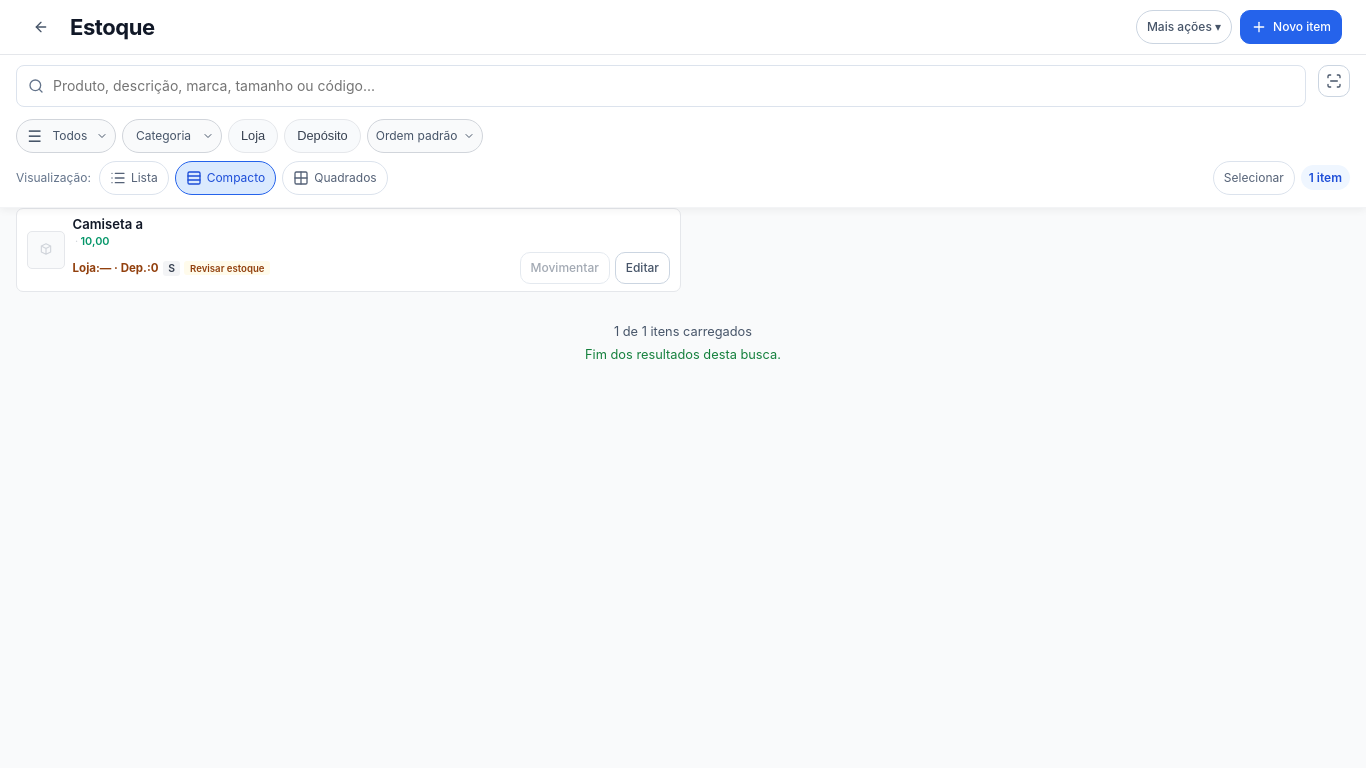
it: does not turn an unknown selected balance into zero
The image size is (1366, 768).
Step 1. Click the button "Selecionar" → click(1254, 178), box [1213,161,1295,195]
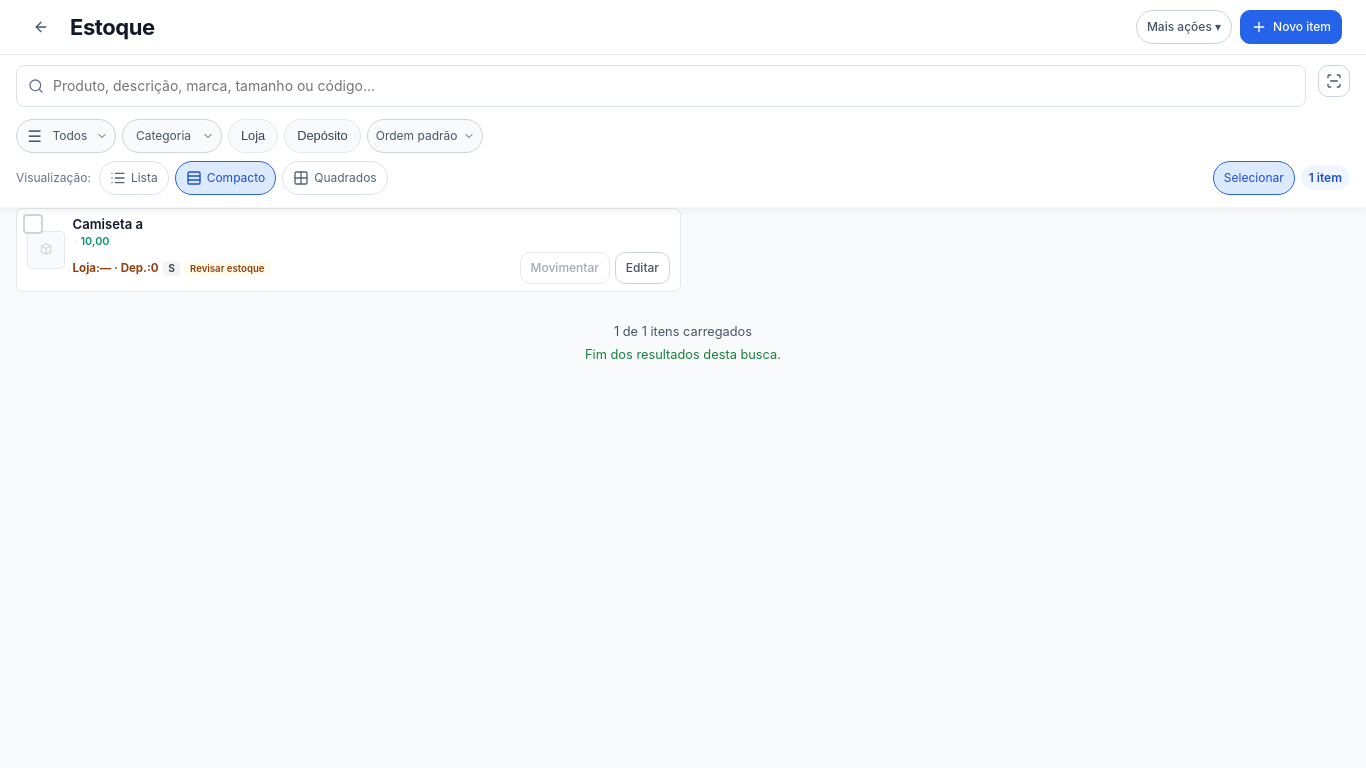
Step 2. Click the element with class "item-card" → click(348, 250), box [16,208,681,292]
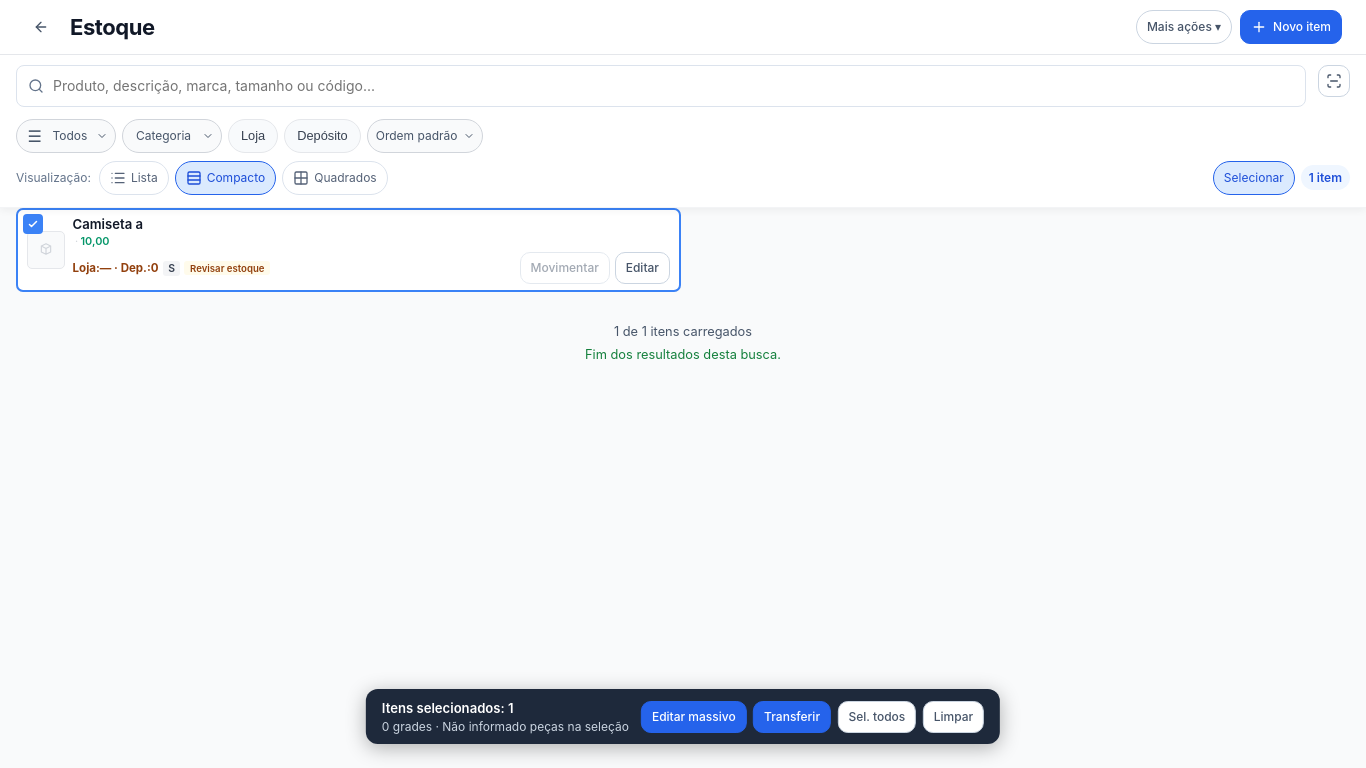
Now the text with class "sel-stock-summary" shows "Não informado", box [382,719,629,734]
